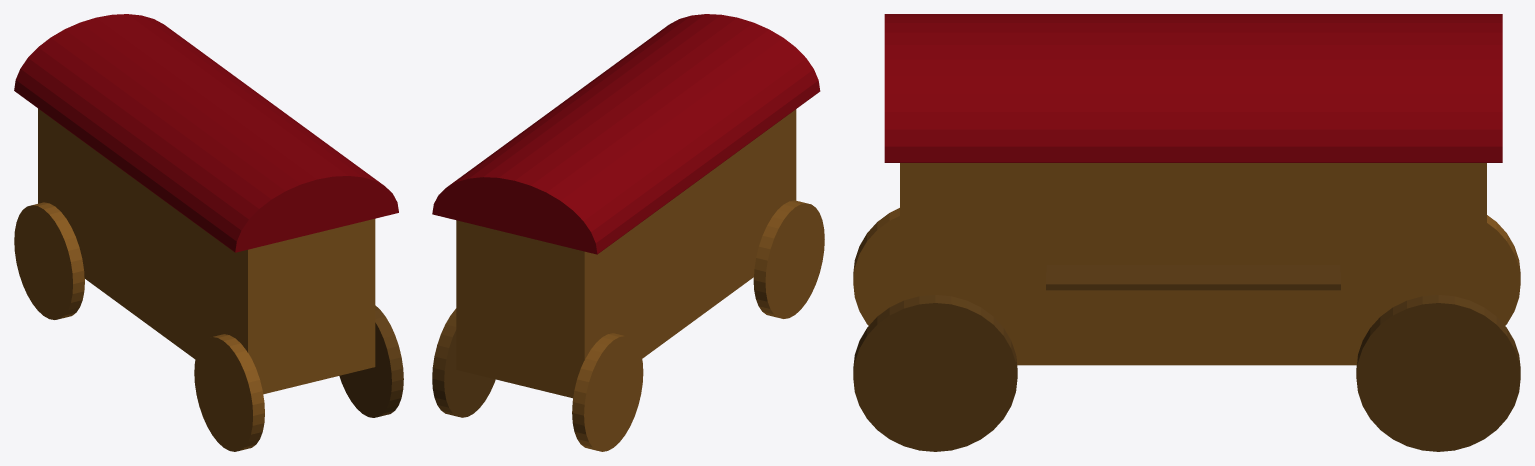
File: wagonplaceholder.fbx
The picture shows the model from 3 angles, left to right: view 1: azimuth 30°, elevation 25°; view 2: azimuth 150°, elevation 25°; view 3: azimuth 270°, elevation 25°; orthographic projection. The views are drawn at different scales.
Parts seen in each view (by area): view 1: Cylinder.004, Cube, Cylinder.001, Cylinder.002, Cylinder; view 2: Cylinder.004, Cube, Cylinder.002, Cylinder.001, Cylinder.003; view 3: Cube, Cylinder.004, Cylinder, Cylinder.003, Cube.001, Cylinder.001, Cylinder.002.
Part boxes in pixels (left/top/right/bottom): Cylinder.004: left=14, top=14, right=398, bottom=252; Cube: left=38, top=108, right=375, bottom=394; Cylinder.001: left=194, top=334, right=264, bottom=451; Cylinder.002: left=14, top=202, right=84, bottom=319; Cylinder: left=339, top=305, right=403, bottom=417; Cylinder.004: left=432, top=14, right=820, bottom=254; Cube: left=456, top=109, right=796, bottom=398; Cylinder.002: left=572, top=333, right=643, bottom=451; Cylinder.001: left=753, top=200, right=824, bottom=318; Cylinder.003: left=432, top=308, right=495, bottom=417; Cube: left=900, top=163, right=1486, bottom=365; Cylinder.004: left=884, top=14, right=1502, bottom=162; Cylinder: left=853, top=295, right=1017, bottom=451; Cylinder.003: left=1356, top=295, right=1520, bottom=451; Cube.001: left=1046, top=265, right=1340, bottom=290; Cylinder.001: left=853, top=208, right=899, bottom=325; Cylinder.002: left=1487, top=215, right=1520, bottom=325.
Bounding box in the file's own units: 200 × 307 × 505.
